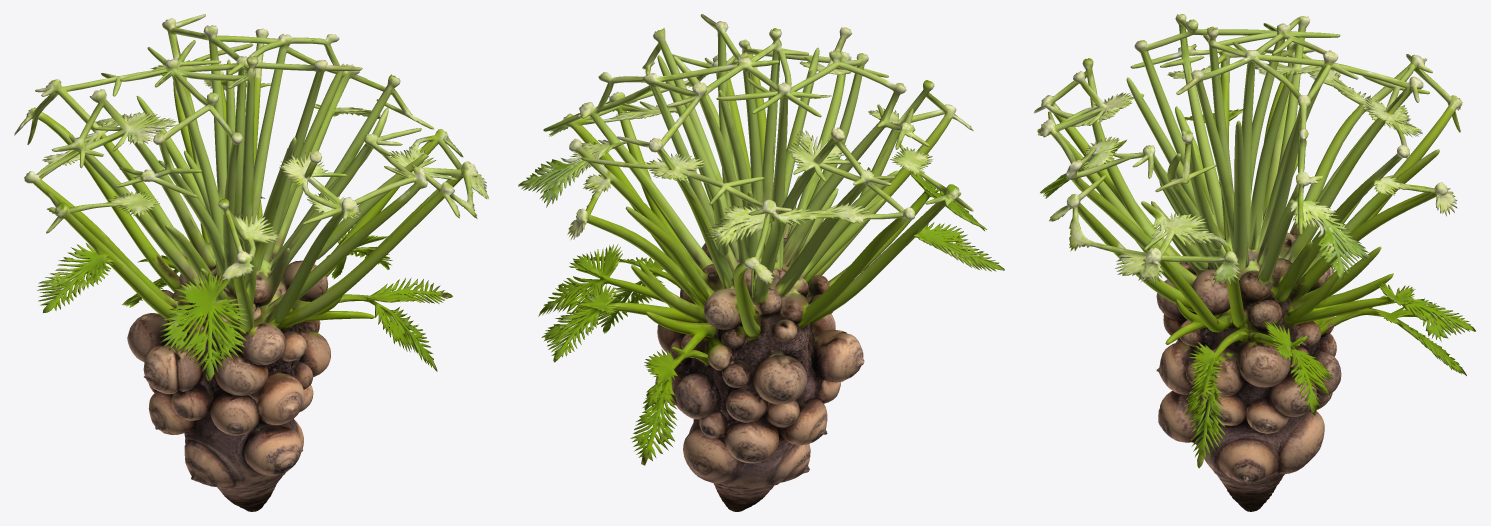
The model's file is chuanxiong.glb.
3 views of the same model, side by side, from view 1: azimuth 30°, elevation 25°; view 2: azimuth 150°, elevation 25°; view 3: azimuth 270°, elevation 25° (orthographic).
Parts seen in each view (by area): view 1: node_0; view 2: node_0; view 3: node_0.
Boxes of the visible parts, <box> form: node_0: <box>14,14,488,511</box>; node_0: <box>518,14,1004,511</box>; node_0: <box>1034,14,1475,511</box>.
Size of the model in its own units: 1.08 by 1.12 by 0.9478.
Materials: 1 (1 with a texture image).
